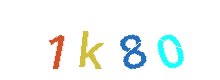0: (130, 0, 210, 80)
1: (37, 0, 117, 80)
8: (92, 0, 172, 80)
K: (69, 0, 149, 80)
